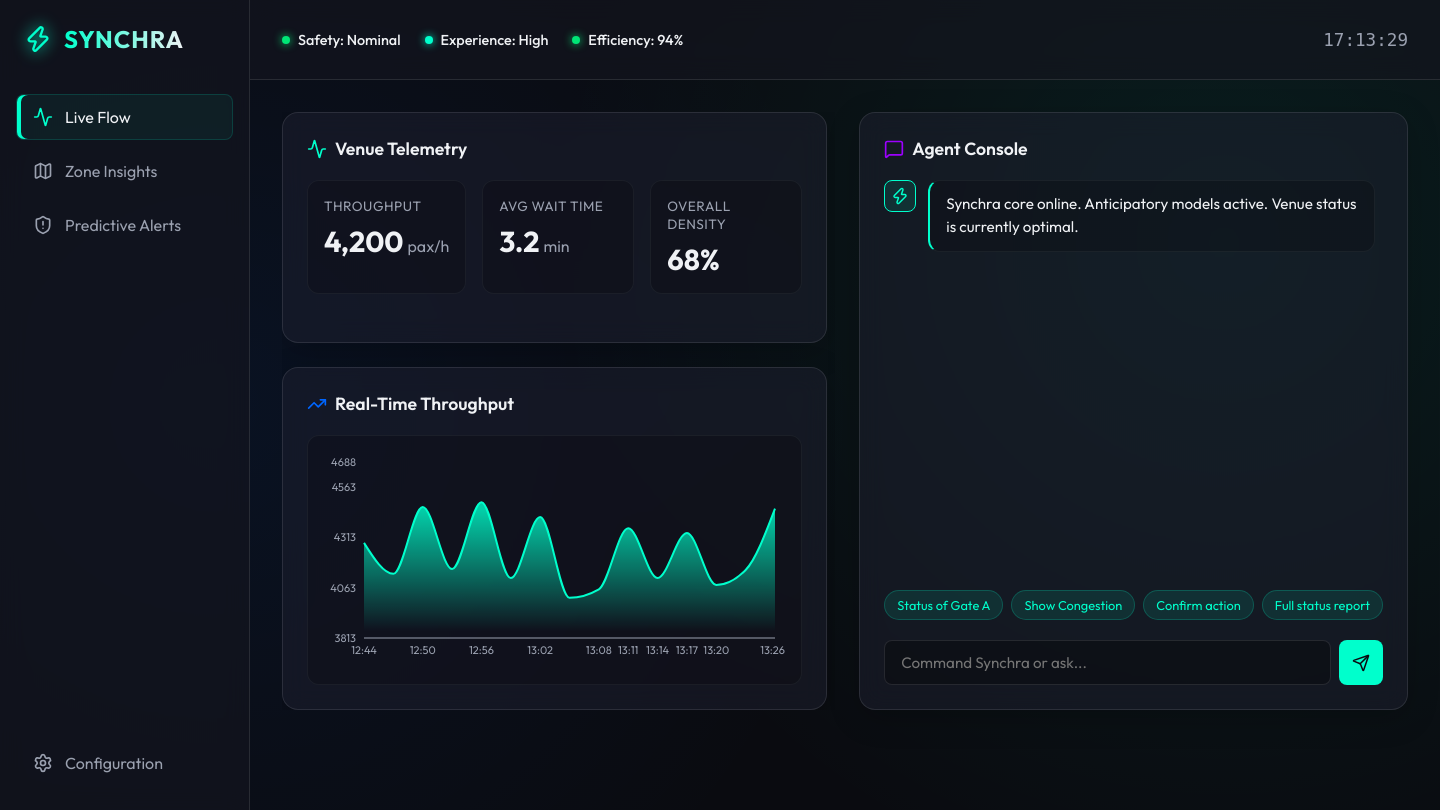
Test case: Synchra App – Tab Navigation › switches to Zone Insights panel on tab click
What coordinates should you click on to do the following:
click the button "Zone Insights"
I would click on:
 (124, 171)
Its box is [16,148,233,194].
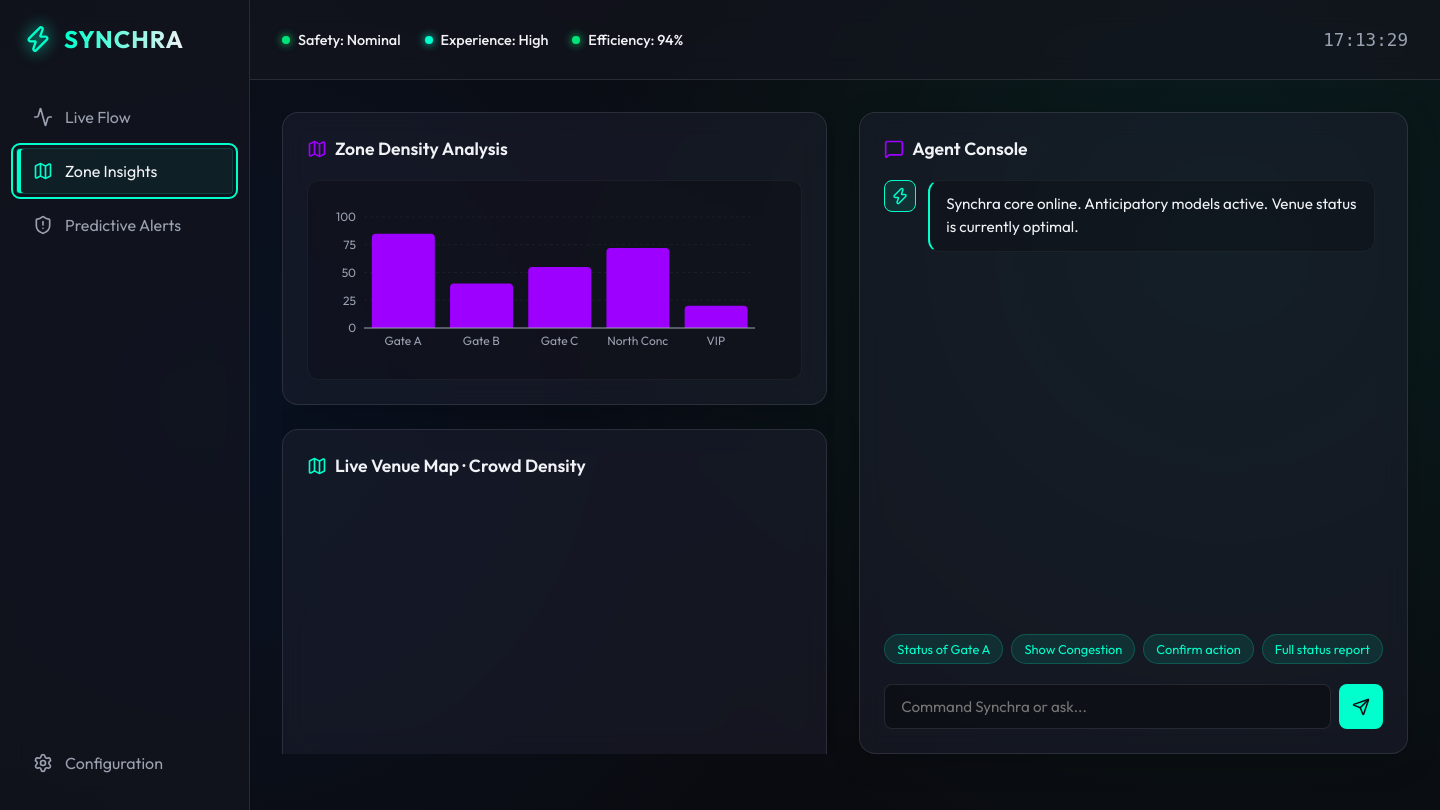
Expected: the text "Zone Density Analysis" is shown, [307,137,508,160]
